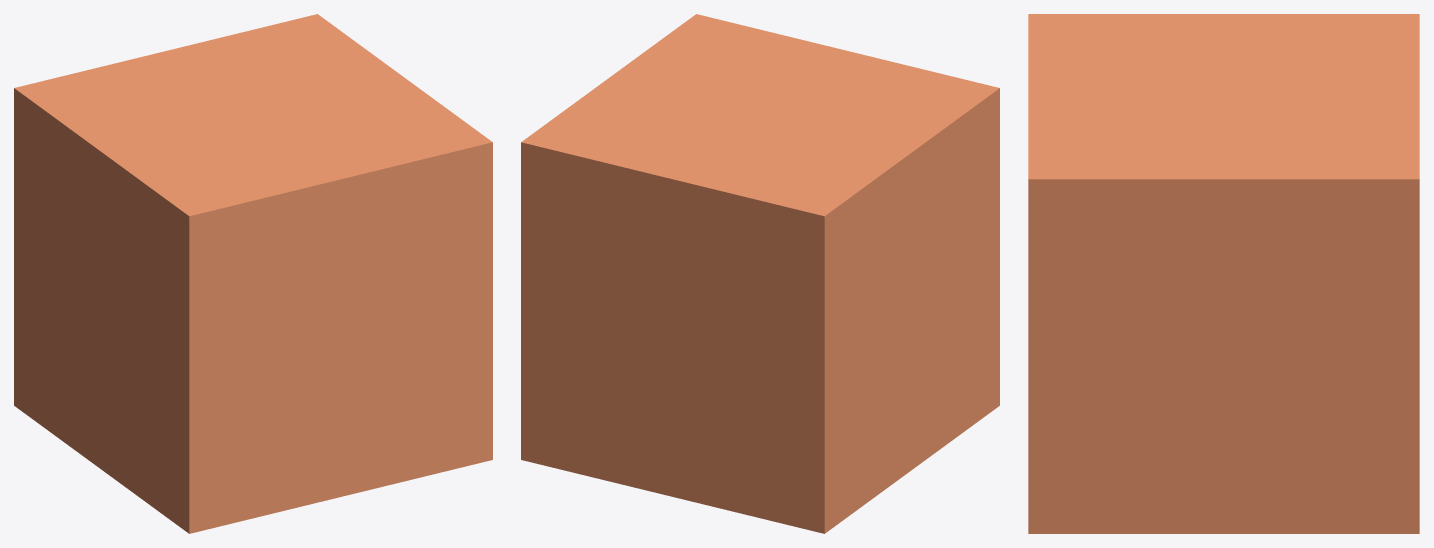
3 renders of one model, left to right at view 1: azimuth 30°, elevation 25°; view 2: azimuth 150°, elevation 25°; view 3: azimuth 270°, elevation 25°, orthographic. The views are drawn at different scales.
Parts seen in each view (by area): view 1: base_link.001; view 2: base_link.001; view 3: base_link.001.
Boxes of the visible parts, bbox=[...] form: base_link.001: bbox=[14, 14, 492, 533]; base_link.001: bbox=[521, 14, 999, 533]; base_link.001: bbox=[1028, 14, 1419, 533].
Size of the model in its own units: 0.15 by 0.15 by 0.15.
